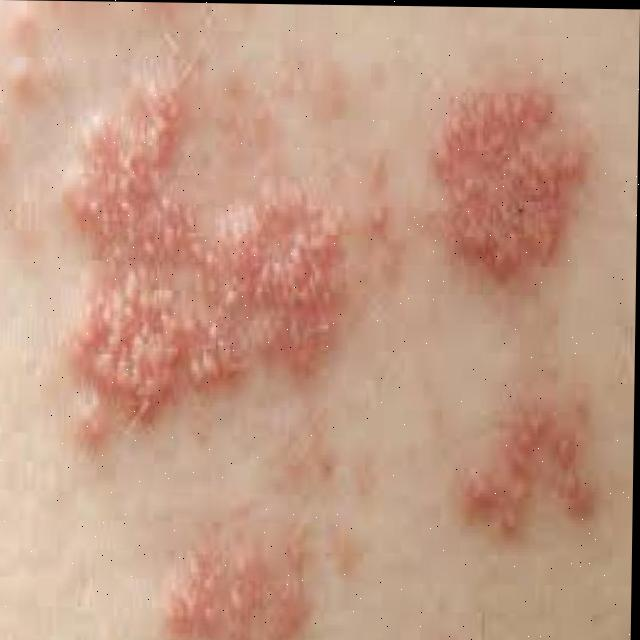Eczema: (43, 73, 596, 640)
